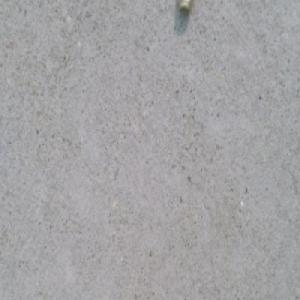BoltNutSet: (177, 0, 194, 15)
